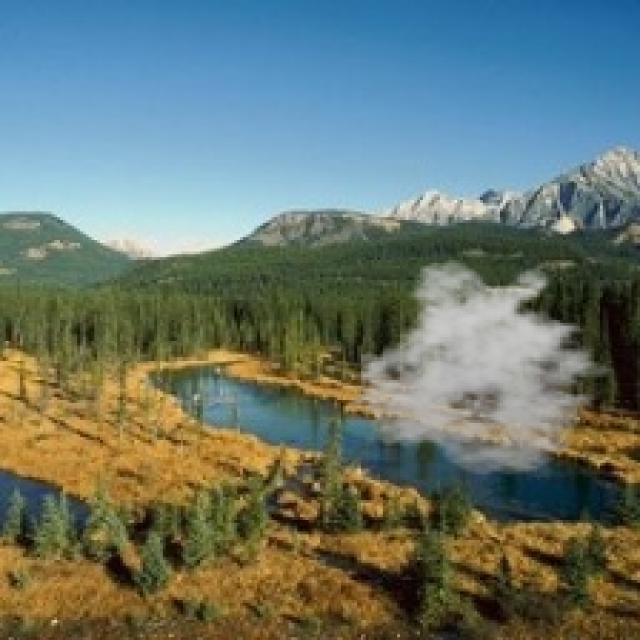smoke: (346, 257, 628, 477)
